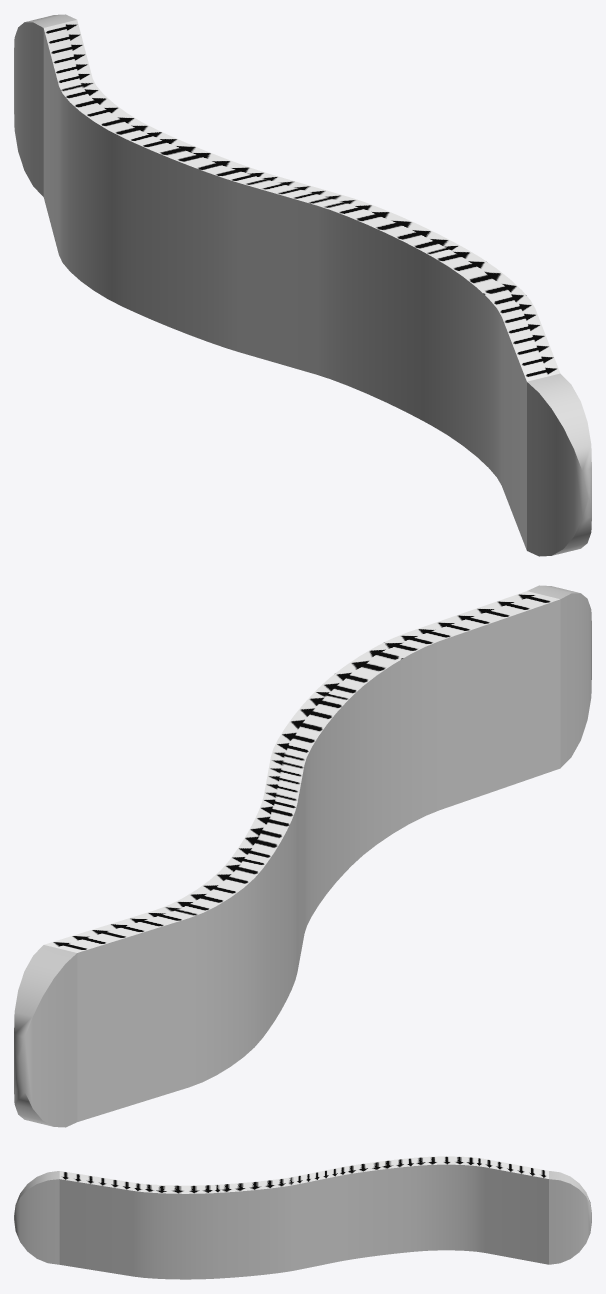
Rendered from CambioDeGravedad.fbx.
The picture shows the model from 3 angles, top to bottom: view 1: azimuth 30°, elevation 25°; view 2: azimuth 150°, elevation 25°; view 3: azimuth 270°, elevation 25°; orthographic projection. The views are drawn at different scales.
Parts seen in each view (by area): view 1: Cube; view 2: Cube; view 3: Cube.
Part boxes in pixels (left/top/right/bottom): Cube: left=14, top=14, right=591, bottom=556; Cube: left=14, top=585, right=591, bottom=1127; Cube: left=14, top=1156, right=591, bottom=1279.
Size of the model in its own units: 187 by 200 by 1223.
2 materials, 1 textured.
